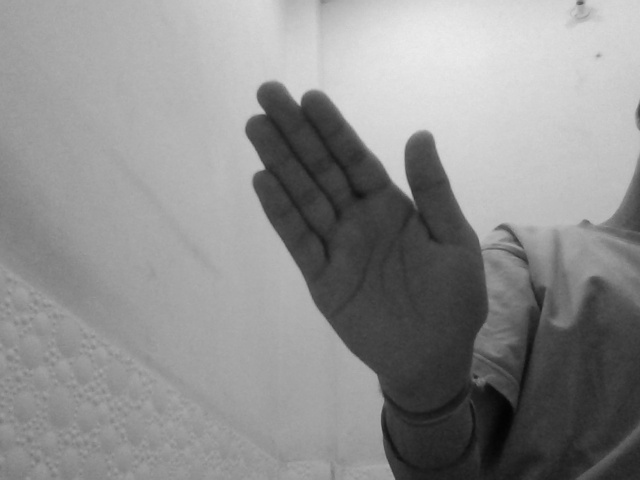Hello: (240, 74, 498, 402)
